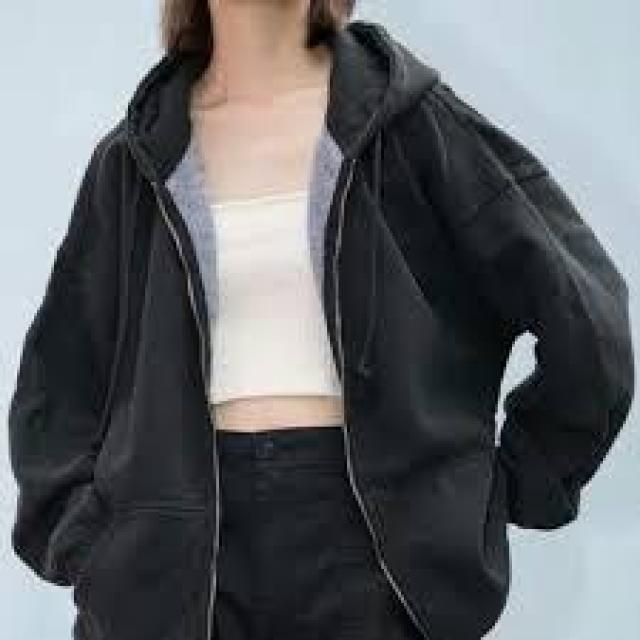sweater: (6, 16, 637, 638)
